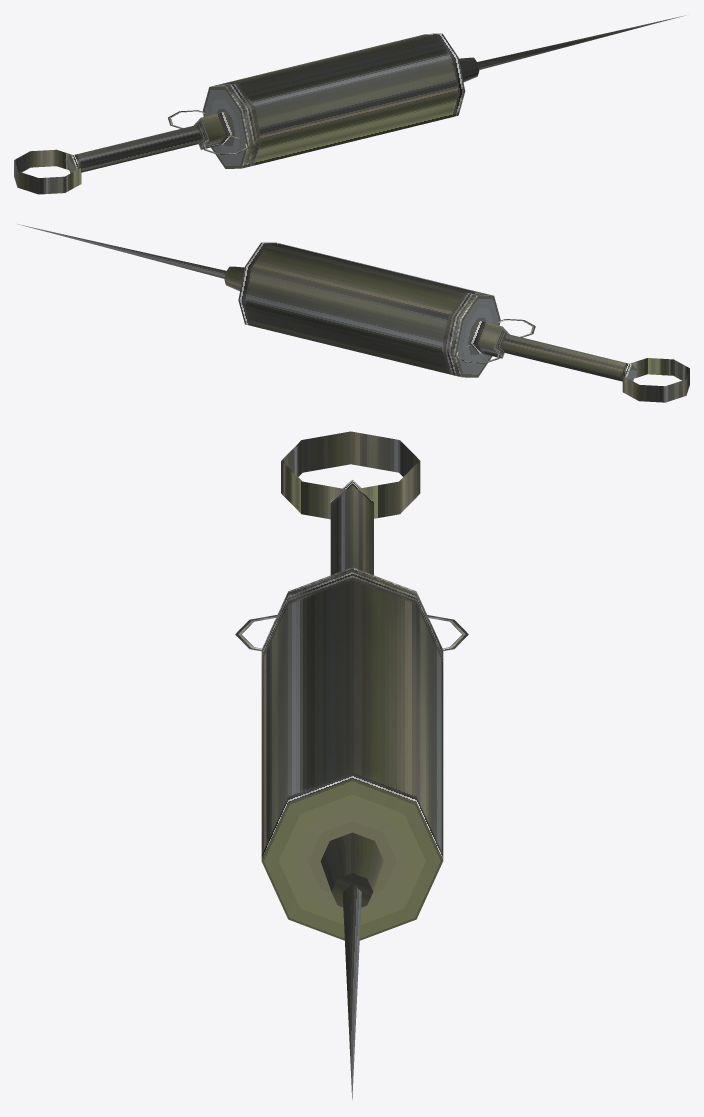
File: syringe.glb
3 views of the same model, one above another, from view 1: azimuth 30°, elevation 25°; view 2: azimuth 150°, elevation 25°; view 3: azimuth 270°, elevation 25° (orthographic). The views are drawn at different scales.
Parts seen in each view (by area): view 1: Object_18; view 2: Object_18; view 3: Object_18.
Boxes of the visible parts, x1=… form: Object_18: x1=14, y1=15, x2=685, y2=194; Object_18: x1=17, y1=224, x2=689, y2=402; Object_18: x1=235, y1=431, x2=468, y2=1099.
Bounding box in the file's own units: 1.93 × 0.2256 × 0.2909.
Materials: 1 (1 with a texture image).
